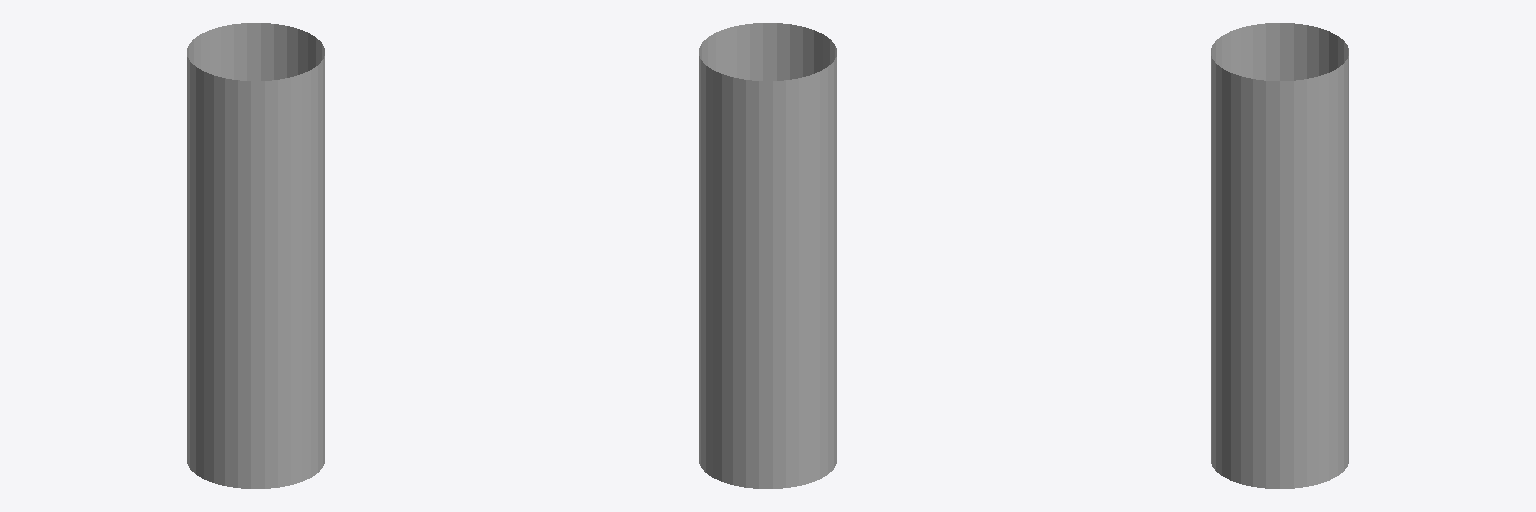
Rendered from BigTube.obj.
3 views of the same model, side by side, from view 1: azimuth 30°, elevation 25°; view 2: azimuth 150°, elevation 25°; view 3: azimuth 270°, elevation 25° (orthographic).
Visible parts, largest first — view 1: Cylinder.001; view 2: Cylinder.001; view 3: Cylinder.001.
Part boxes in pixels (bbox=[...]): Cylinder.001: bbox=[187, 23, 324, 488]; Cylinder.001: bbox=[699, 23, 836, 488]; Cylinder.001: bbox=[1211, 23, 1348, 488].
Bounding box in the file's own units: 300 × 972 × 300.